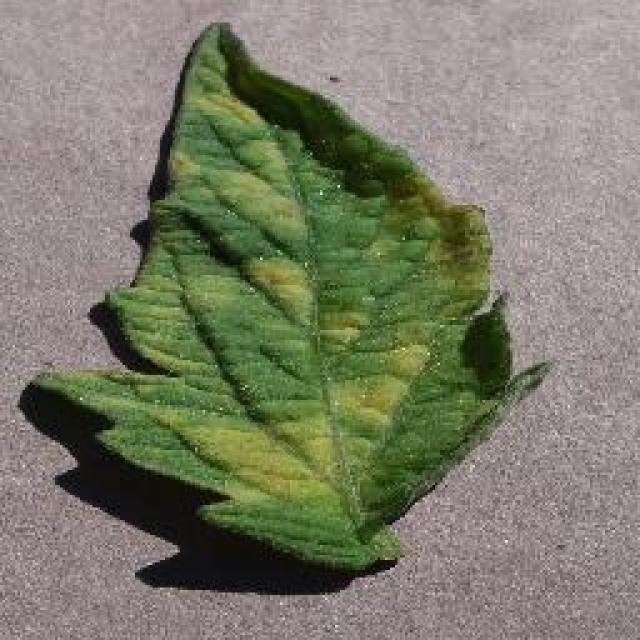green waste: (27, 7, 567, 592)
